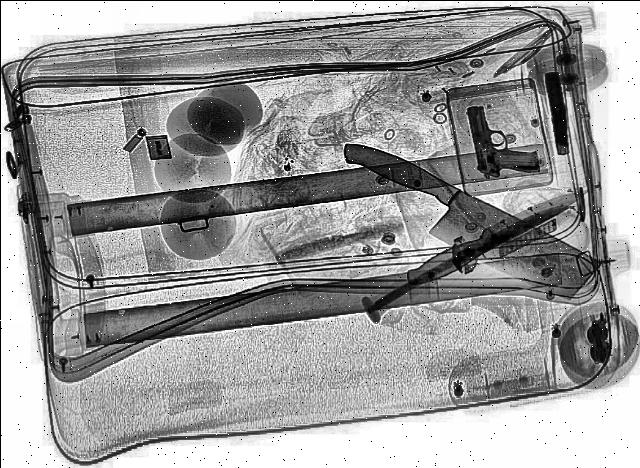Gun: (464, 101, 542, 181), (539, 70, 579, 156)
Knife: (306, 135, 616, 303), (362, 200, 570, 312), (398, 182, 598, 290)
